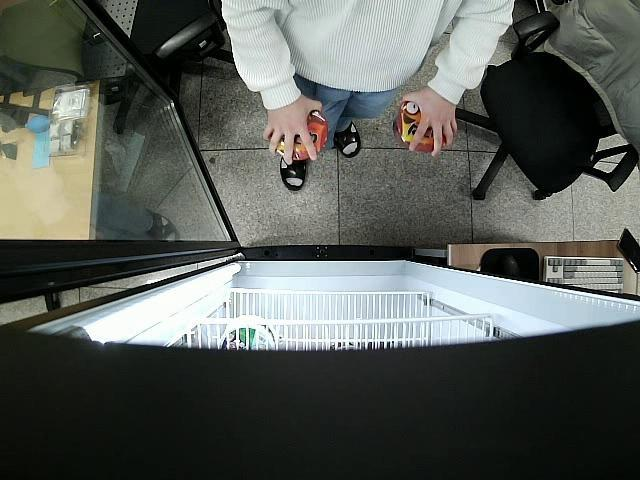05_nuguri_L: (268, 108, 327, 163), (397, 102, 448, 152)
